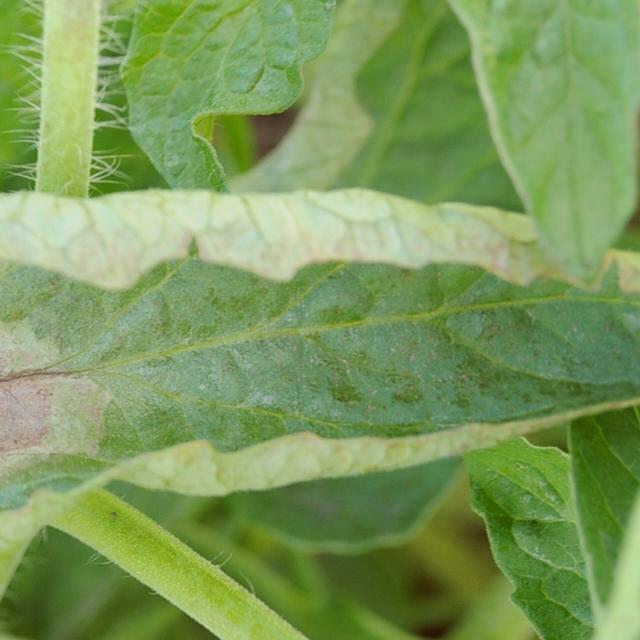Tomato leaf late blight: (0, 173, 640, 640)
